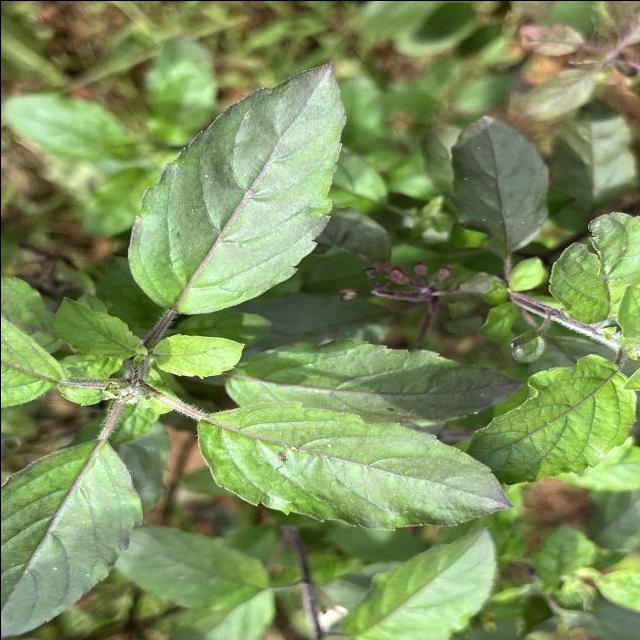Ocimum tenuiflorum: (124, 57, 348, 317), (192, 397, 514, 532)
